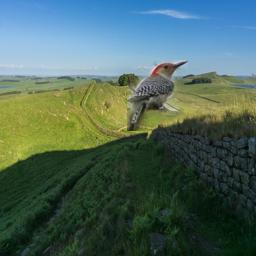Woodpecker: (127, 60, 188, 131)
